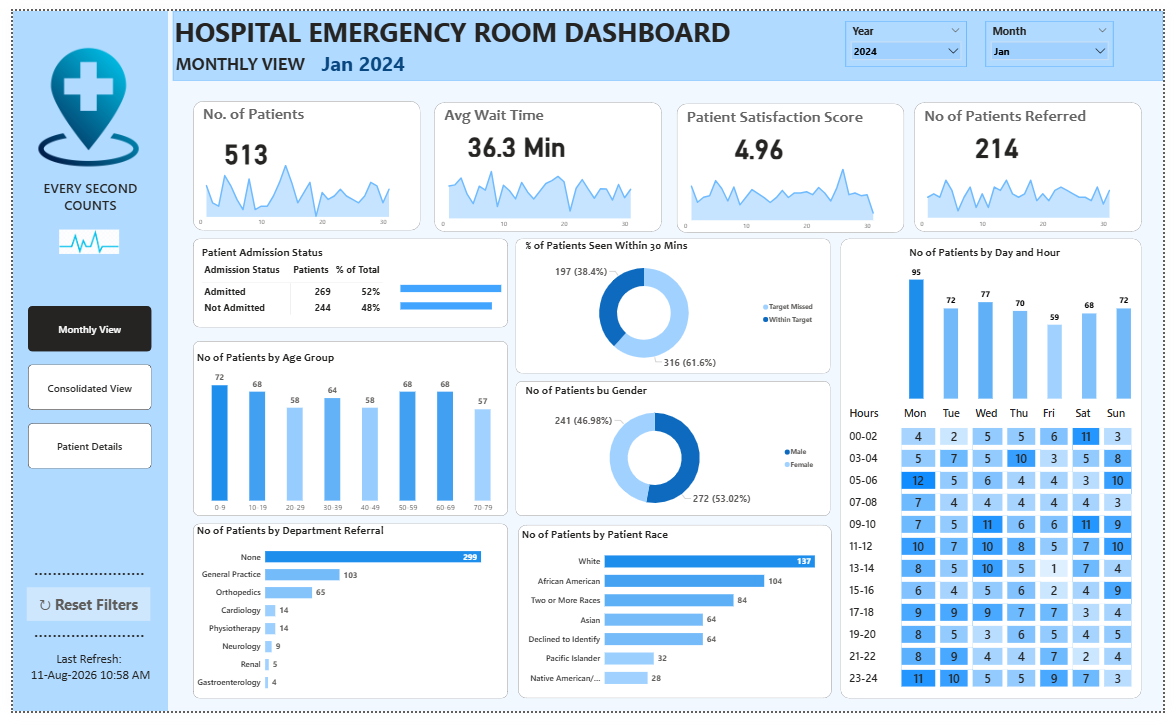

Layout of this report page (visuals, bound fields, positions):
{"tool":"powerbi","page":{"name":"Monthly View","canvas":[2300,1400],"ordinal":0},"visuals":[{"type":"shape","box":[1656,456,602,920],"z":0},{"type":"shape","box":[0,0,310,1400],"z":1000},{"type":"shape","box":[320.5,0,1979,140],"z":2000},{"type":"textbox","box":[318.6,0,1133.2,87.5],"z":3000},{"type":"textbox","box":[321,78.5,271.1,61.8],"z":4000},{"type":"image","box":[27.5,0,247.5,385],"z":5000},{"type":"shape","box":[361,179.7,455,259],"z":6000},{"type":"card","fields":{"Values":["Hospital ER_Data.No of Patients"]},"box":[402,234,126,90],"z":7000},{"type":"slicer","fields":{"Values":["Date Table.Year"]},"box":[1666,20,242,92],"z":8000},{"type":"slicer","fields":{"Values":["Date Table.Month"]},"box":[1946,20,256,92],"z":9000},{"type":"shape","box":[842.3,181.8,455,259],"z":10000},{"type":"textbox","box":[376,180,240,54],"z":11000},{"type":"areaChart","fields":{"Y":["Measures Table.No of Patients"],"Category":["Date Table.Date.Variation.Date Hierarchy.Day"]},"box":[360,296,456,146],"z":12000},{"type":"card","fields":{"Values":["Min(Date Table.Month & Year)"]},"box":[588,78,226,52],"z":13000},{"type":"card","fields":{"Values":["Measures Table.Avg Wait Time"]},"box":[884.5,235.4,244.9,61.8],"z":14000},{"type":"textbox","box":[857.5,182.5,212.5,52.5],"z":15000},{"type":"areaChart","fields":{"Category":["Date Table.Date.Variation.Date Hierarchy.Day"],"Y":["Avg(Hospital ER_Data.Patient Waittime)"]},"box":[844,300,454,144],"z":16000},{"type":"shape","box":[1327.9,186,455,259],"z":17000},{"type":"card","fields":{"Values":["Measures Table.Avg Satisfaction Score"]},"box":[1370.1,239.7,244.9,61.8],"z":18000},{"type":"textbox","box":[1343.4,187.8,370.9,52.3],"z":19000},{"type":"areaChart","fields":{"Category":["Date Table.Date.Variation.Date Hierarchy.Day"],"Y":["Measures Table.Avg Satisfaction Score"]},"box":[1330,302,454,146],"z":20000},{"type":"shape","box":[1802,182.7,455,259],"z":21000},{"type":"card","fields":{"Values":["Measures Table.Patients Referred"]},"box":[1844.2,236.4,244.9,61.8],"z":22000},{"type":"textbox","box":[1817.6,184.5,370.9,52.3],"z":23000},{"type":"areaChart","fields":{"Category":["Date Table.Date.Variation.Date Hierarchy.Day"],"Y":["Measures Table.Patients Referred"]},"box":[1802,298,454,146],"z":24000},{"type":"shape","box":[1006,456,630,270],"z":25000},{"type":"shape","box":[360,456,630,178],"z":26000},{"type":"pivotTable","title":"Patient Admission Status","fields":{"Rows":["Hospital ER_Data.Admission Status"],"Values":["Measures Table.No of Patients1","Measures Table.No of Patients"]},"box":[372.8,467.6,602,156],"z":27000},{"type":"barChart","fields":{"Category":["Hospital ER_Data.Admission Status"],"Y":["Measures Table.No of Patients"]},"box":[769.3,518.1,235,105],"z":28000},{"type":"shape","box":[1010.5,1027.2,627.7,347.1],"z":29000},{"type":"clusteredBarChart","fields":{"Category":["Hospital ER_Data.Patient Race"],"Y":["Measures Table.No of Patients"]},"box":[1012.9,1031.9,630.1,335.3],"z":30000},{"type":"shape","box":[360,1024,630,350],"z":31000},{"type":"clusteredBarChart","fields":{"Category":["Hospital ER_Data.Department Referral"],"Y":["Measures Table.No of Patients"]},"box":[362,1024,612,350],"z":32000},{"type":"donutChart","title":"% of Patients Seen Within 30  Mins","fields":{"Y":["Measures Table.No of Patients"],"Category":["Hospital ER_Data.Waittime Status"]},"box":[1020,456,594,270],"z":33000},{"type":"shape","box":[1006,740,630,270],"z":34000},{"type":"donutChart","title":"No of Patients bu Gender","fields":{"Y":["Measures Table.No of Patients"],"Category":["Hospital ER_Data.Patient Gender"]},"box":[1020,746,594,270],"z":35000},{"type":"shape","box":[360.5,660.1,630,350],"z":36000},{"type":"clusteredColumnChart","fields":{"Category":["Hospital ER_Data.Age Group"],"Y":["Measures Table.No of Patients"]},"box":[362.5,678.1,630,336],"z":37000},{"type":"pivotTable","fields":{"Rows":["Hospital ER_Data.Admission Hour Interval"],"Columns":["Date Table.Day"],"Values":["Measures Table.No of Patients"]},"box":[1662,782,606,586],"z":38000},{"type":"clusteredColumnChart","title":"No of Patients by Day and Hour","fields":{"Y":["Measures Table.No of Patients"],"Category":["Date Table.Day"]},"box":[1788,468,456,314],"z":39000},{"type":"pageNavigator","box":[30,590,247.5,325],"z":40000},{"type":"textbox","box":[25,1200,255,75],"z":41000},{"type":"actionButton","box":[27.5,1152.5,247.5,67.5],"z":42000},{"type":"textbox","box":[25,1077.5,255,75],"z":43000},{"type":"card","fields":{"Values":["Measures Table.Last Refresh"]},"box":[22.5,1267.5,265,82.5],"z":44000},{"type":"textbox","box":[4,331,300,165],"z":45000},{"type":"image","box":[88,428,130,68],"z":46000}]}

Visuals, with their boxes in screenshot pixels (x1, y1, x2, y2), scaled from the page's 2300x1400 canvas onto the 1176x725 screenshot:
shape: BBox(847, 236, 1155, 713)
shape: BBox(0, 0, 159, 724)
shape: BBox(164, 0, 1175, 72)
textbox: BBox(163, 0, 742, 45)
textbox: BBox(164, 41, 303, 73)
image: BBox(14, 0, 141, 199)
shape: BBox(185, 93, 417, 227)
card - Hospital ER_Data.No of Patients: BBox(206, 121, 270, 168)
slicer - Date Table.Year: BBox(852, 10, 976, 58)
slicer - Date Table.Month: BBox(995, 10, 1126, 58)
shape: BBox(431, 94, 663, 228)
textbox: BBox(192, 93, 315, 121)
areaChart - Measures Table.No of Patients x Date Table.Date.Variation.Date Hierarchy.Day: BBox(184, 153, 417, 229)
card - Min(Date Table.Month & Year): BBox(301, 40, 416, 67)
card - Measures Table.Avg Wait Time: BBox(452, 122, 577, 154)
textbox: BBox(438, 95, 547, 122)
areaChart - Date Table.Date.Variation.Date Hierarchy.Day x Avg(Hospital ER_Data.Patient Waittime): BBox(432, 155, 664, 230)
shape: BBox(679, 96, 912, 230)
card - Measures Table.Avg Satisfaction Score: BBox(701, 124, 826, 156)
textbox: BBox(687, 97, 877, 124)
areaChart - Date Table.Date.Variation.Date Hierarchy.Day x Measures Table.Avg Satisfaction Score: BBox(680, 156, 912, 232)
shape: BBox(921, 95, 1154, 229)
card - Measures Table.Patients Referred: BBox(943, 122, 1068, 154)
textbox: BBox(929, 96, 1119, 123)
areaChart - Date Table.Date.Variation.Date Hierarchy.Day x Measures Table.Patients Referred: BBox(921, 154, 1154, 230)
shape: BBox(514, 236, 836, 376)
shape: BBox(184, 236, 506, 328)
"Patient Admission Status" pivotTable: BBox(191, 242, 498, 323)
barChart - Hospital ER_Data.Admission Status x Measures Table.No of Patients: BBox(393, 268, 514, 323)
shape: BBox(517, 532, 838, 712)
clusteredBarChart - Hospital ER_Data.Patient Race x Measures Table.No of Patients: BBox(518, 534, 840, 708)
shape: BBox(184, 530, 506, 712)
clusteredBarChart - Hospital ER_Data.Department Referral x Measures Table.No of Patients: BBox(185, 530, 498, 712)
"% of Patients Seen Within 30  Mins" donutChart: BBox(522, 236, 825, 376)
shape: BBox(514, 383, 836, 523)
"No of Patients bu Gender" donutChart: BBox(522, 386, 825, 526)
shape: BBox(184, 342, 506, 523)
clusteredColumnChart - Hospital ER_Data.Age Group x Measures Table.No of Patients: BBox(185, 351, 507, 525)
pivotTable - Hospital ER_Data.Admission Hour Interval x Date Table.Day: BBox(850, 405, 1160, 708)
"No of Patients by Day and Hour" clusteredColumnChart: BBox(914, 242, 1147, 405)
pageNavigator: BBox(15, 306, 142, 474)
textbox: BBox(13, 621, 143, 660)
actionButton: BBox(14, 597, 141, 632)
textbox: BBox(13, 558, 143, 597)
card - Measures Table.Last Refresh: BBox(12, 656, 147, 699)
textbox: BBox(2, 171, 155, 257)
image: BBox(45, 222, 111, 257)
